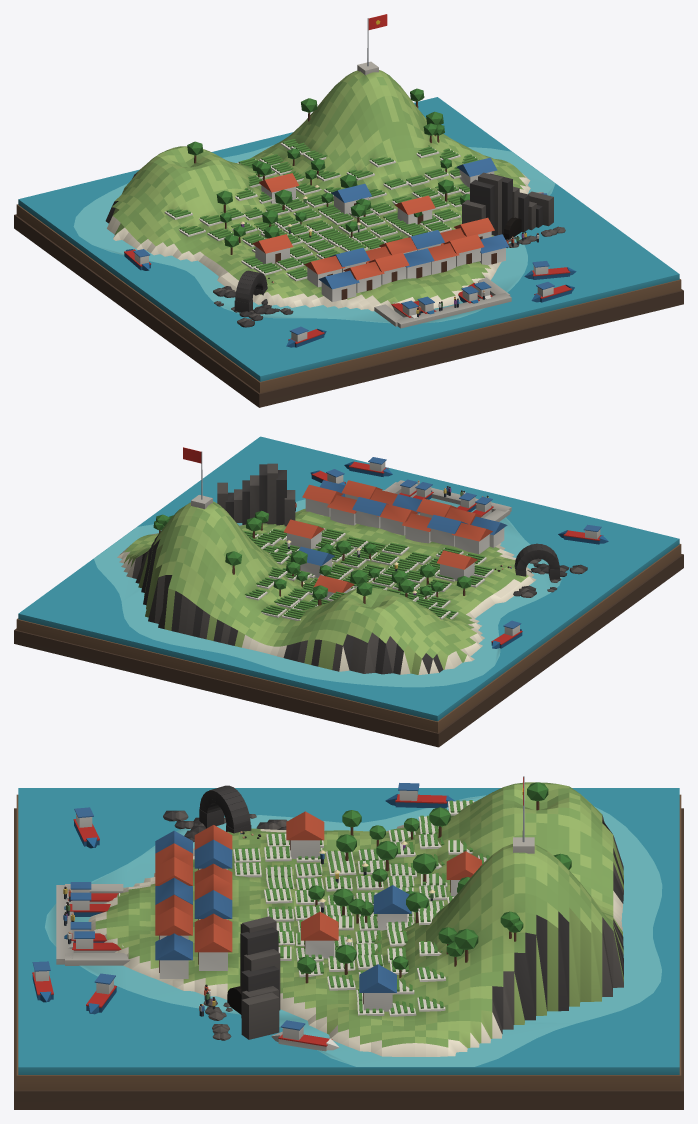
File: dao-ly-son.glb
The picture shows the model from 3 angles, top to bottom: view 1: azimuth 30°, elevation 25°; view 2: azimuth 150°, elevation 25°; view 3: azimuth 270°, elevation 25°; orthographic projection. The views are drawn at different scales.
Parts seen in each view (by area): view 1: LS_LS_base; view 2: LS_LS_base; view 3: LS_LS_base.
Part boxes in pixels (x1=…): LS_LS_base: x1=14, y1=14, x2=683, y2=407; LS_LS_base: x1=14, y1=436, x2=683, y2=747; LS_LS_base: x1=14, y1=776, x2=683, y2=1109.
Bounding box in the file's own units: 92 × 37.46 × 92.
Materials: 1 (1 with a texture image).
